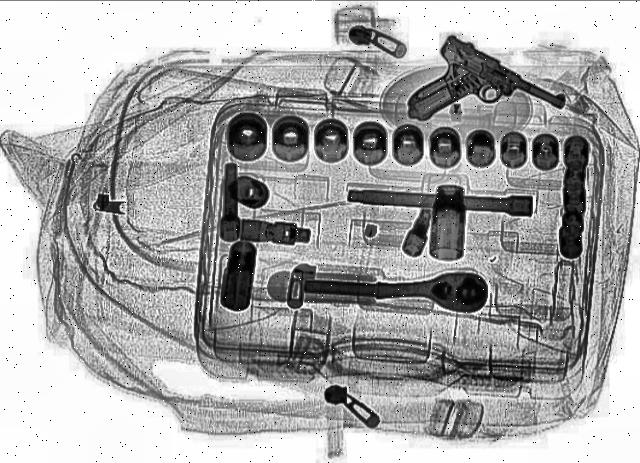Gun: (378, 34, 578, 162)
